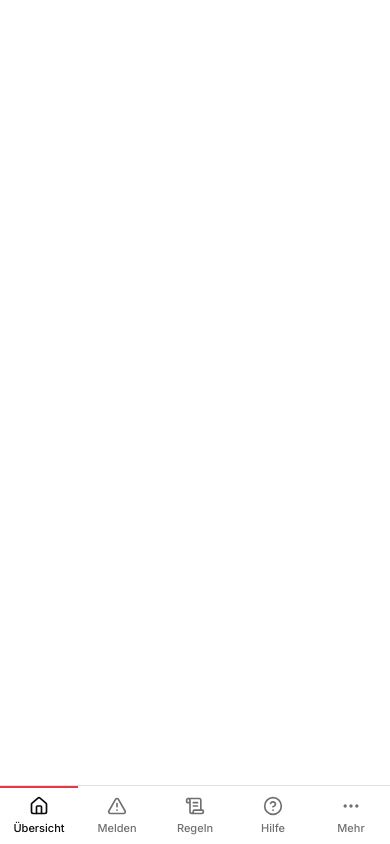
PortalTabBar › groups the sheet under collapsible headings
This screenshot has width=390, height=844.
What coordinates should you click on to do the following:
click the button "Mehr"
I would click on:
 (351, 815)
Its box is [312,786,389,843].
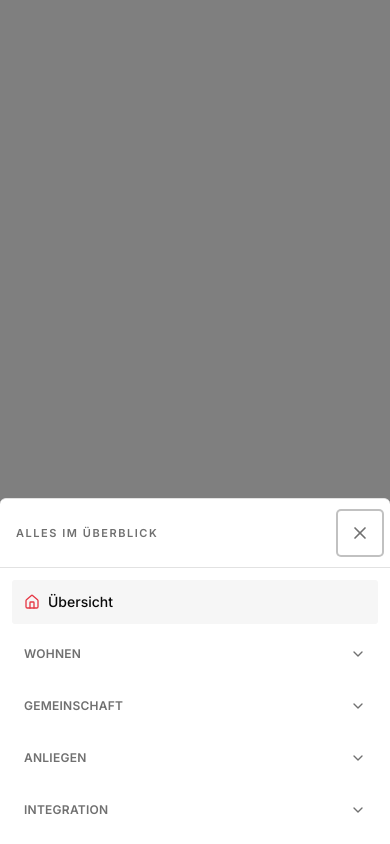
Expected: the heading "Wohnen" is shown, [24,646,366,662]
Expected: the heading "Gemeinschaft" is shown, [24,698,366,714]
Expected: the heading "Anliegen" is shown, [24,750,366,766]
